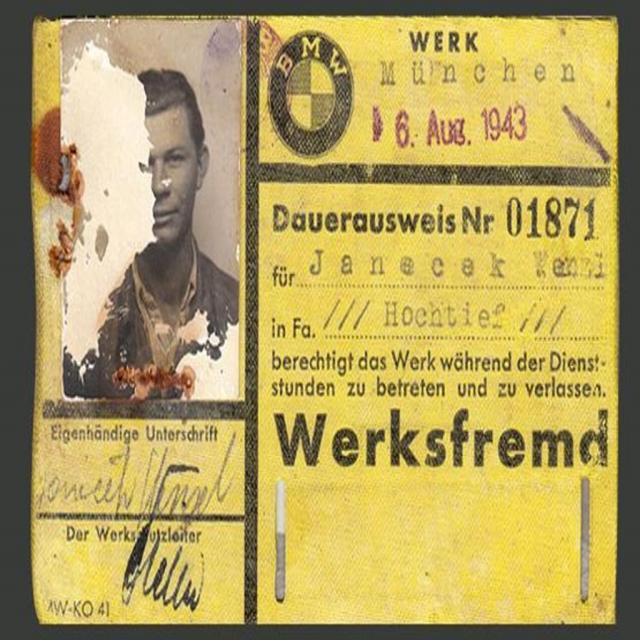nomask: (138, 113, 194, 238)
